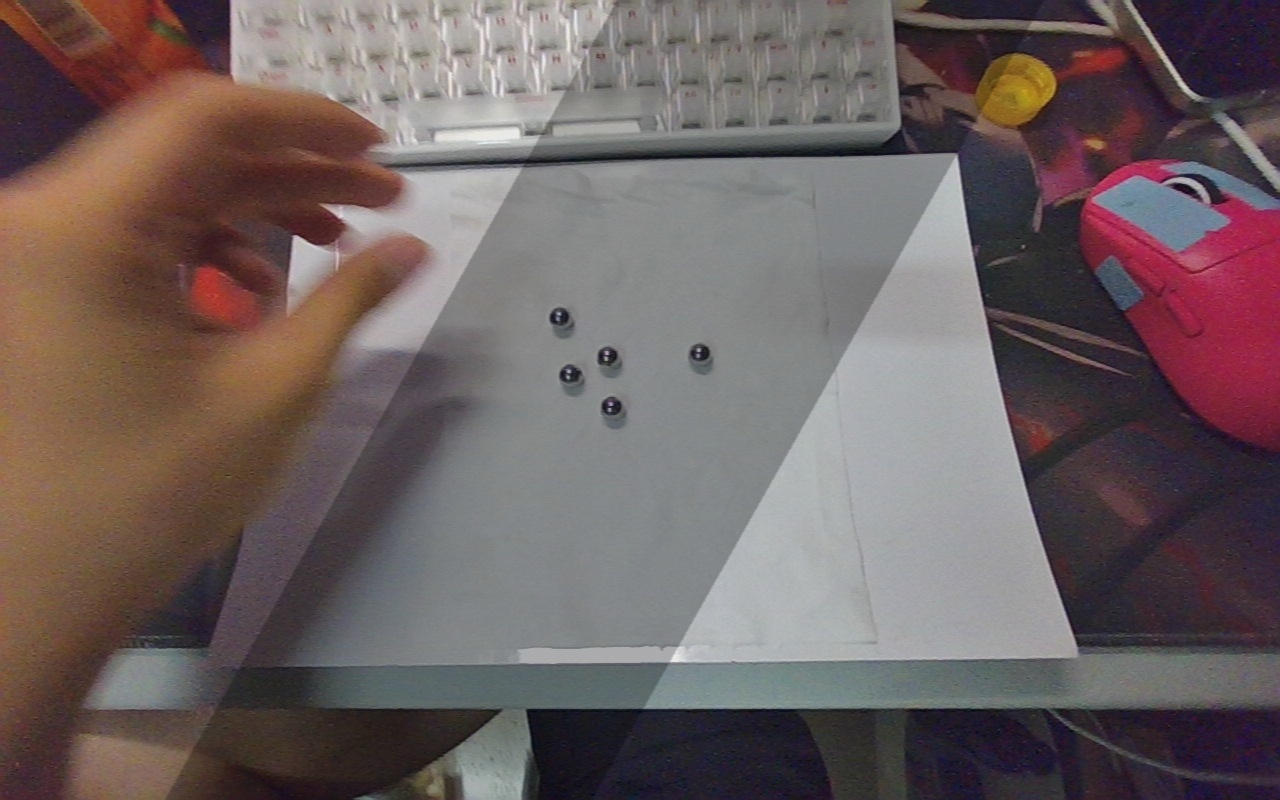ball: (596, 344, 622, 372), (687, 342, 713, 368), (547, 307, 573, 332), (559, 363, 584, 389), (600, 397, 624, 422)
